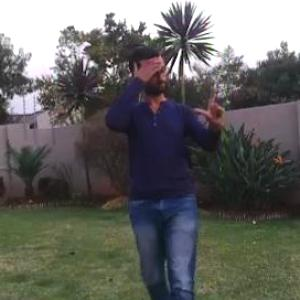land_hand: (188, 82, 230, 131)
